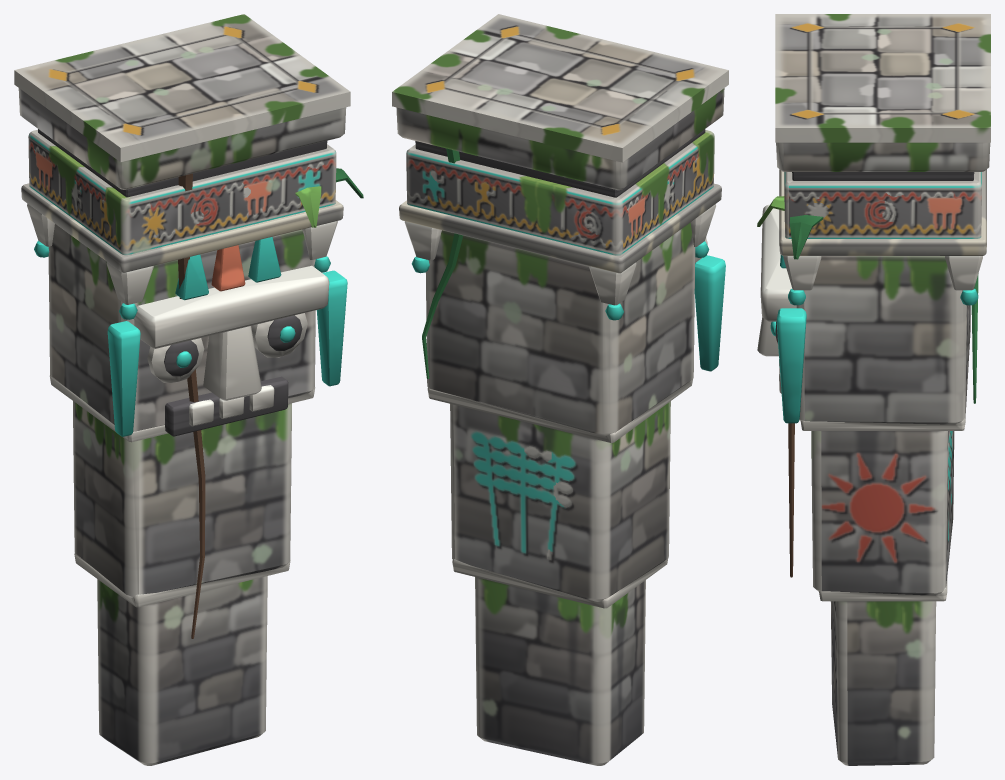
Rendered from stone_8.glb.
3 views of the same model, side by side, from view 1: azimuth 30°, elevation 25°; view 2: azimuth 150°, elevation 25°; view 3: azimuth 270°, elevation 25° (orthographic).
Parts seen in each view (by area): view 1: stone_8.001; view 2: stone_8.001; view 3: stone_8.001.
Part boxes in pixels (left/top/right/bottom): stone_8.001: left=14, top=14, right=363, bottom=765; stone_8.001: left=392, top=14, right=728, bottom=765; stone_8.001: left=757, top=14, right=990, bottom=765.
Bounding box in the file's own units: 5.5 × 13.65 × 4.34.
1 material, 1 textured.
